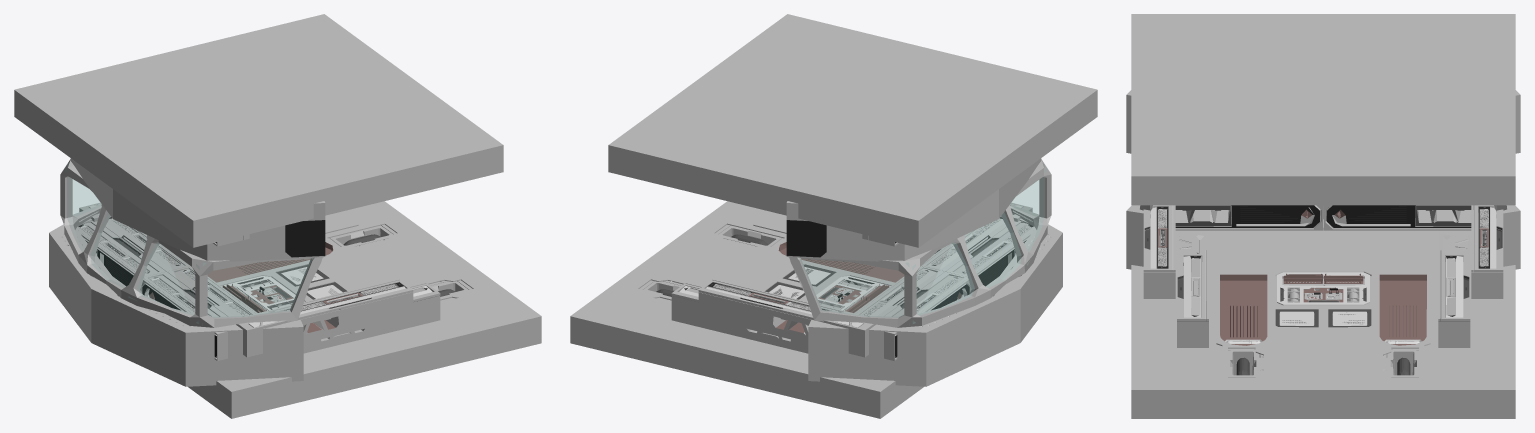
File: room.fbx
3 views of the same model, side by side, from view 1: azimuth 30°, elevation 25°; view 2: azimuth 150°, elevation 25°; view 3: azimuth 270°, elevation 25° (orthographic). The views are drawn at different scales.
Visible parts, largest first — view 1: room.002, room.005, room, windows, room.008, room.004, windows.002, room.001; view 2: room.002, room.005, room, windows, room.008, room.007, windows.001, room.003; view 3: room.002, room.005, room.008, room.003, room.001, room, room.004, room.007.
Boxes of the visible parts, x1,y1,x2,y2 form: room.002: (14, 14, 503, 247); room.005: (188, 201, 541, 418); room: (49, 158, 325, 386); windows: (65, 169, 198, 323); room.008: (76, 218, 257, 360); room.004: (236, 279, 413, 357); windows.002: (203, 258, 312, 317); room.001: (303, 282, 440, 353); room.002: (608, 14, 1097, 247); room.005: (570, 201, 923, 418); room: (786, 158, 1062, 386); windows: (913, 169, 1046, 323); room.008: (854, 218, 1035, 360); room.007: (698, 279, 875, 357); windows.001: (799, 258, 908, 317); room.003: (671, 282, 808, 353); room.002: (1131, 14, 1515, 205); room.005: (1131, 228, 1515, 418); room.008: (1175, 205, 1471, 230); room.003: (1438, 232, 1470, 347); room.001: (1177, 232, 1208, 347); room: (1126, 90, 1520, 294); room.004: (1143, 205, 1175, 298); room.007: (1471, 205, 1503, 298).
Bounding box in the file's own units: 1395 × 767 × 1231.
